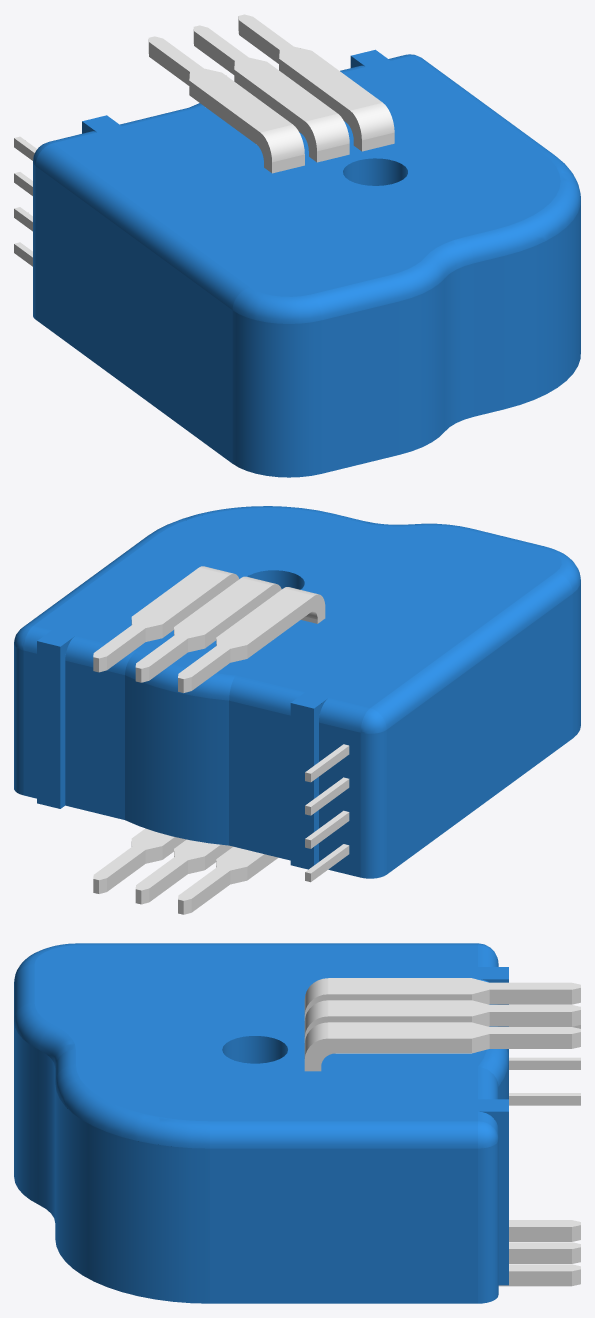
File: LEM_LTSR-NP.glb
3 renders of one model, top to bottom at view 1: azimuth 30°, elevation 25°; view 2: azimuth 150°, elevation 25°; view 3: azimuth 270°, elevation 25°, orthographic. The views are drawn at different scales.
Parts seen in each view (by area): view 1: Shape_IndexedFaceSet.029, Shape_IndexedFaceSet.038, Shape_IndexedFaceSet.039, Shape_IndexedFaceSet.040, Shape_IndexedFaceSet.042, Shape_IndexedFaceSet.016, Shape_IndexedFaceSet.006, Shape_IndexedFaceSet.041, Shape_IndexedFaceSet.005, Shape_IndexedFaceSet.112, Shape_IndexedFaceSet.128, Shape_IndexedFaceSet.096 (+17 smaller); view 2: Shape_IndexedFaceSet.029, Shape_IndexedFaceSet.038, Shape_IndexedFaceSet.032, Shape_IndexedFaceSet.033, Shape_IndexedFaceSet.031, Shape_IndexedFaceSet.016, Shape_IndexedFaceSet.037, Shape_IndexedFaceSet.019, Shape_IndexedFaceSet.004, Shape_IndexedFaceSet.035, Shape_IndexedFaceSet.096, Shape_IndexedFaceSet.112 (+26 smaller); view 3: Shape_IndexedFaceSet.029, Shape_IndexedFaceSet.043, Shape_IndexedFaceSet.042, Shape_IndexedFaceSet.009, Shape_IndexedFaceSet.010, Shape_IndexedFaceSet.006, Shape_IndexedFaceSet.096, Shape_IndexedFaceSet.112, Shape_IndexedFaceSet.128, Shape_IndexedFaceSet.022, Shape_IndexedFaceSet.133, Shape_IndexedFaceSet.005 (+21 smaller).
Boxes of the visible parts, x1,y1,x2,y2 form: Shape_IndexedFaceSet.029: (53, 49, 560, 296); Shape_IndexedFaceSet.038: (35, 166, 232, 463); Shape_IndexedFaceSet.039: (232, 310, 321, 477); Shape_IndexedFaceSet.040: (321, 301, 399, 473); Shape_IndexedFaceSet.042: (504, 201, 580, 408); Shape_IndexedFaceSet.016: (35, 143, 249, 309); Shape_IndexedFaceSet.006: (399, 278, 444, 454); Shape_IndexedFaceSet.041: (474, 256, 504, 416); Shape_IndexedFaceSet.005: (445, 263, 473, 430); Shape_IndexedFaceSet.112: (193, 25, 337, 121); Shape_IndexedFaceSet.128: (238, 14, 382, 110); Shape_IndexedFaceSet.096: (148, 36, 292, 132); Shape_IndexedFaceSet.029: (33, 508, 561, 708); Shape_IndexedFaceSet.038: (387, 594, 572, 874); Shape_IndexedFaceSet.032: (125, 675, 228, 845); Shape_IndexedFaceSet.033: (229, 700, 290, 860); Shape_IndexedFaceSet.031: (65, 661, 124, 819); Shape_IndexedFaceSet.016: (370, 572, 572, 729); Shape_IndexedFaceSet.037: (319, 722, 360, 877); Shape_IndexedFaceSet.019: (360, 730, 386, 878); Shape_IndexedFaceSet.004: (37, 641, 60, 808); Shape_IndexedFaceSet.035: (290, 703, 313, 869); Shape_IndexedFaceSet.096: (178, 588, 313, 678); Shape_IndexedFaceSet.112: (135, 578, 271, 668); Shape_IndexedFaceSet.029: (34, 945, 508, 1121); Shape_IndexedFaceSet.043: (210, 1148, 477, 1303); Shape_IndexedFaceSet.042: (55, 1085, 209, 1303); Shape_IndexedFaceSet.009: (210, 1121, 477, 1148); Shape_IndexedFaceSet.010: (55, 1064, 209, 1148); Shape_IndexedFaceSet.006: (14, 1022, 38, 1204); Shape_IndexedFaceSet.096: (328, 978, 580, 994); Shape_IndexedFaceSet.112: (328, 1000, 580, 1016); Shape_IndexedFaceSet.128: (328, 1022, 580, 1038); Shape_IndexedFaceSet.022: (478, 1140, 498, 1303); Shape_IndexedFaceSet.133: (304, 1038, 471, 1071); Shape_IndexedFaceSet.005: (39, 1050, 55, 1222).
Size of the model in its own units: 8.74 by 5.31 by 10.83.
